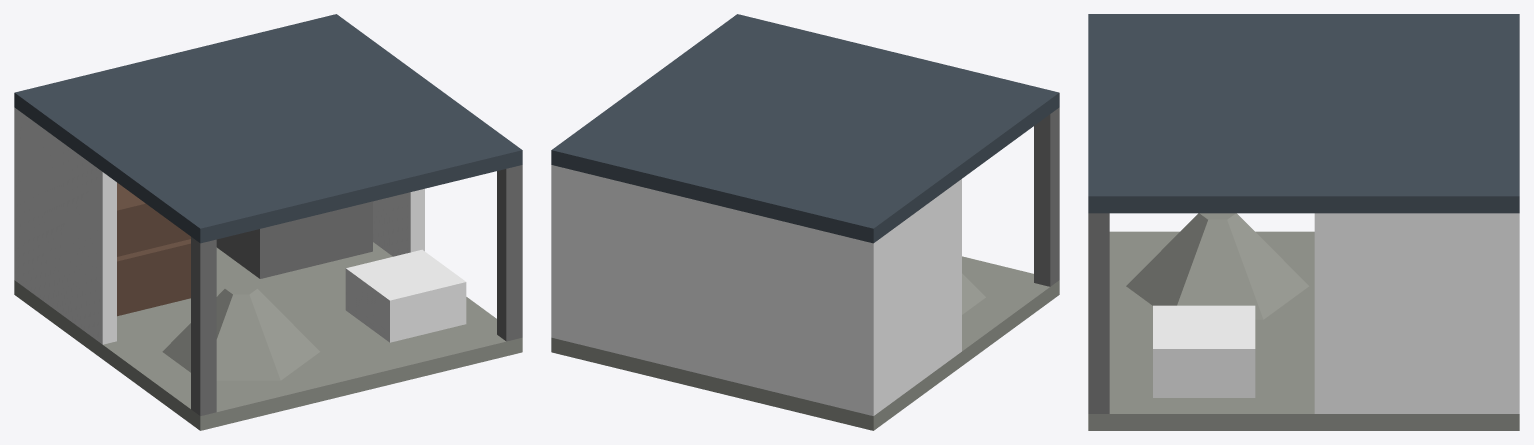
The model's file is site_bunker.fbx.
The picture shows the model from 3 angles, left to right: view 1: azimuth 30°, elevation 25°; view 2: azimuth 150°, elevation 25°; view 3: azimuth 270°, elevation 25°; orthographic projection. The views are drawn at different scales.
Parts seen in each view (by area): view 1: a1059/0/site_bunker; view 2: a1059/0/site_bunker; view 3: a1059/0/site_bunker.
Boxes of the visible parts, bbox=[...] form: a1059/0/site_bunker: bbox=[14, 14, 522, 430]; a1059/0/site_bunker: bbox=[551, 14, 1059, 430]; a1059/0/site_bunker: bbox=[1088, 14, 1519, 430].
Size of the model in its own units: 8 by 4.8 by 8.
